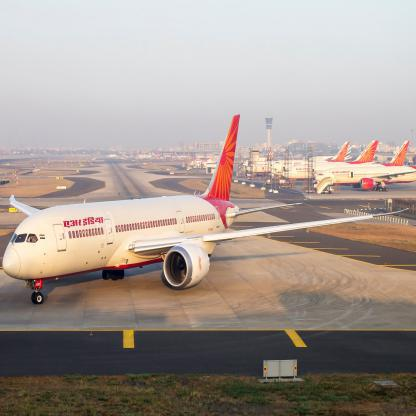CIV_Plane: (1, 115, 300, 302), (309, 138, 413, 196)
